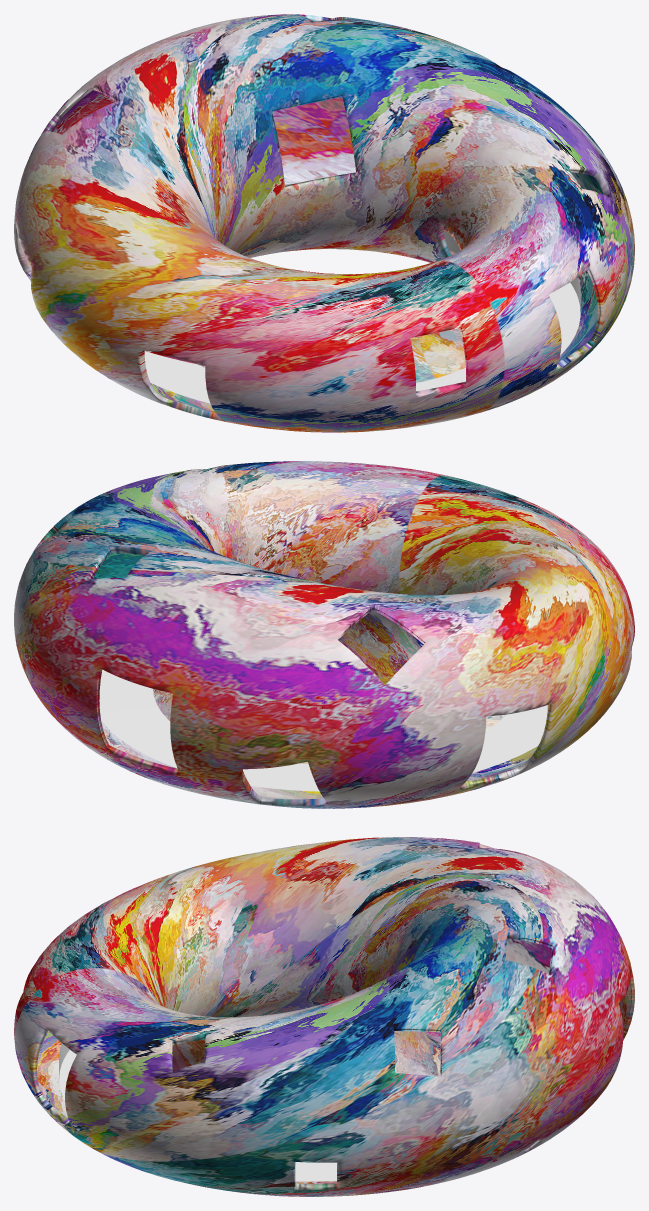
The picture shows the model from 3 angles, top to bottom: view 1: azimuth 30°, elevation 25°; view 2: azimuth 150°, elevation 25°; view 3: azimuth 270°, elevation 25°; orthographic projection. The views are drawn at different scales.
Parts seen in each view (by area): view 1: Solids, Ramps_2; view 2: Solids, Ramps_2; view 3: Solids, Ramps_2.
Boxes of the visible parts, x1,y1,x2,y2 form: Solids: (14, 14, 634, 432); Ramps_2: (144, 282, 580, 403); Solids: (14, 461, 634, 808); Ramps_2: (99, 669, 547, 791); Solids: (14, 837, 634, 1196); Ramps_2: (59, 1050, 336, 1181).
Bounding box in the file's own units: 38.53 × 14.83 × 39.88.
Materials: 2 (2 with a texture image).
